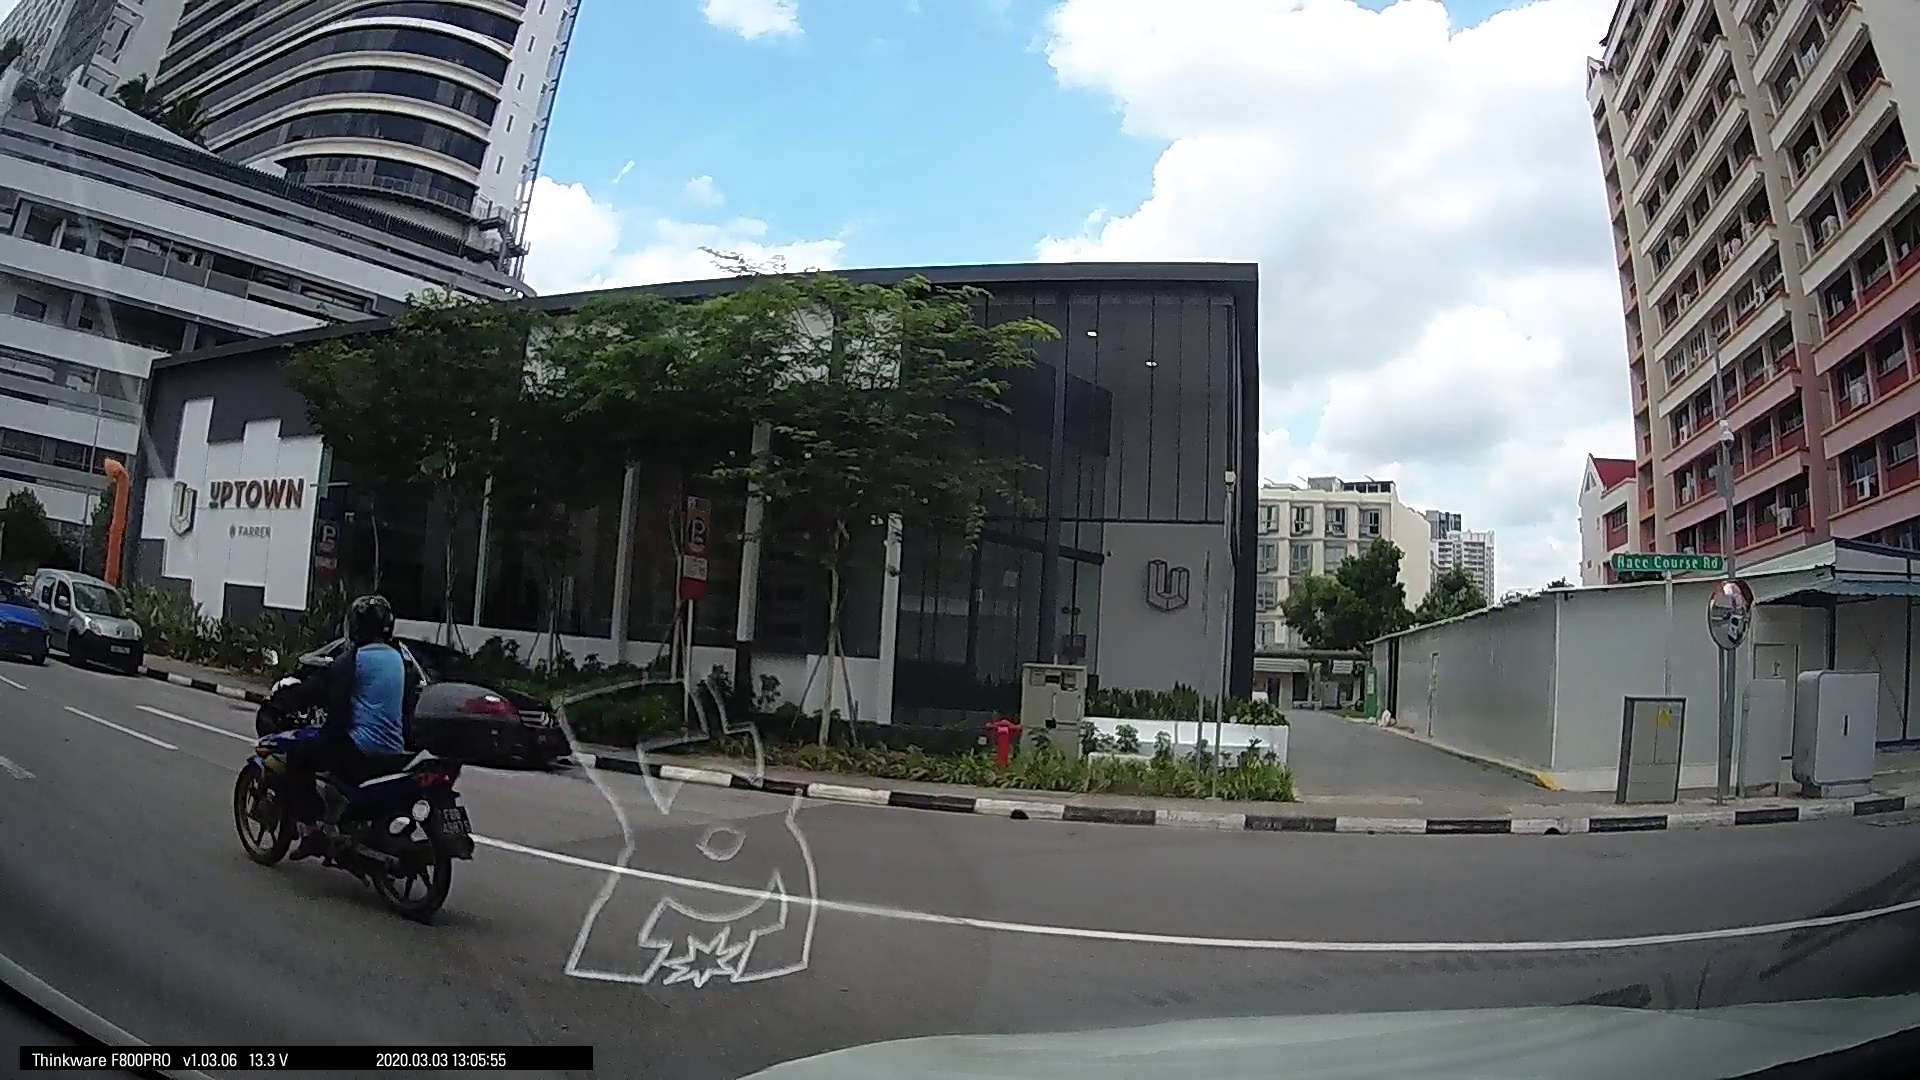Light Vehicle: (427, 665, 572, 774), (12, 566, 145, 671)
Motorcycle: (232, 622, 480, 919)
